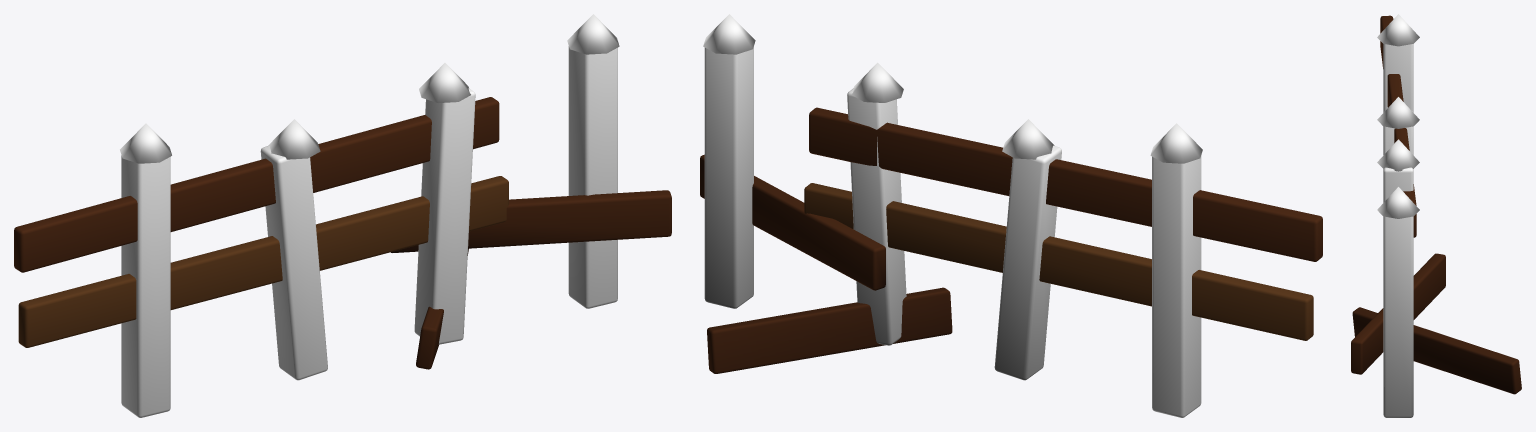
File: broken-fence.obj
The picture shows the model from 3 angles, left to right: view 1: azimuth 30°, elevation 25°; view 2: azimuth 150°, elevation 25°; view 3: azimuth 270°, elevation 25°; orthographic projection. The views are drawn at different scales.
Visible parts, largest first — view 1: broken-fence; view 2: broken-fence; view 3: broken-fence.
Boxes of the visible parts, x1=… form: broken-fence: x1=14, y1=14, x2=671, y2=417; broken-fence: x1=700, y1=14, x2=1322, y2=417; broken-fence: x1=1351, y1=14, x2=1521, y2=417.
Size of the model in its own units: 2.7 by 1.18 by 0.7947.
